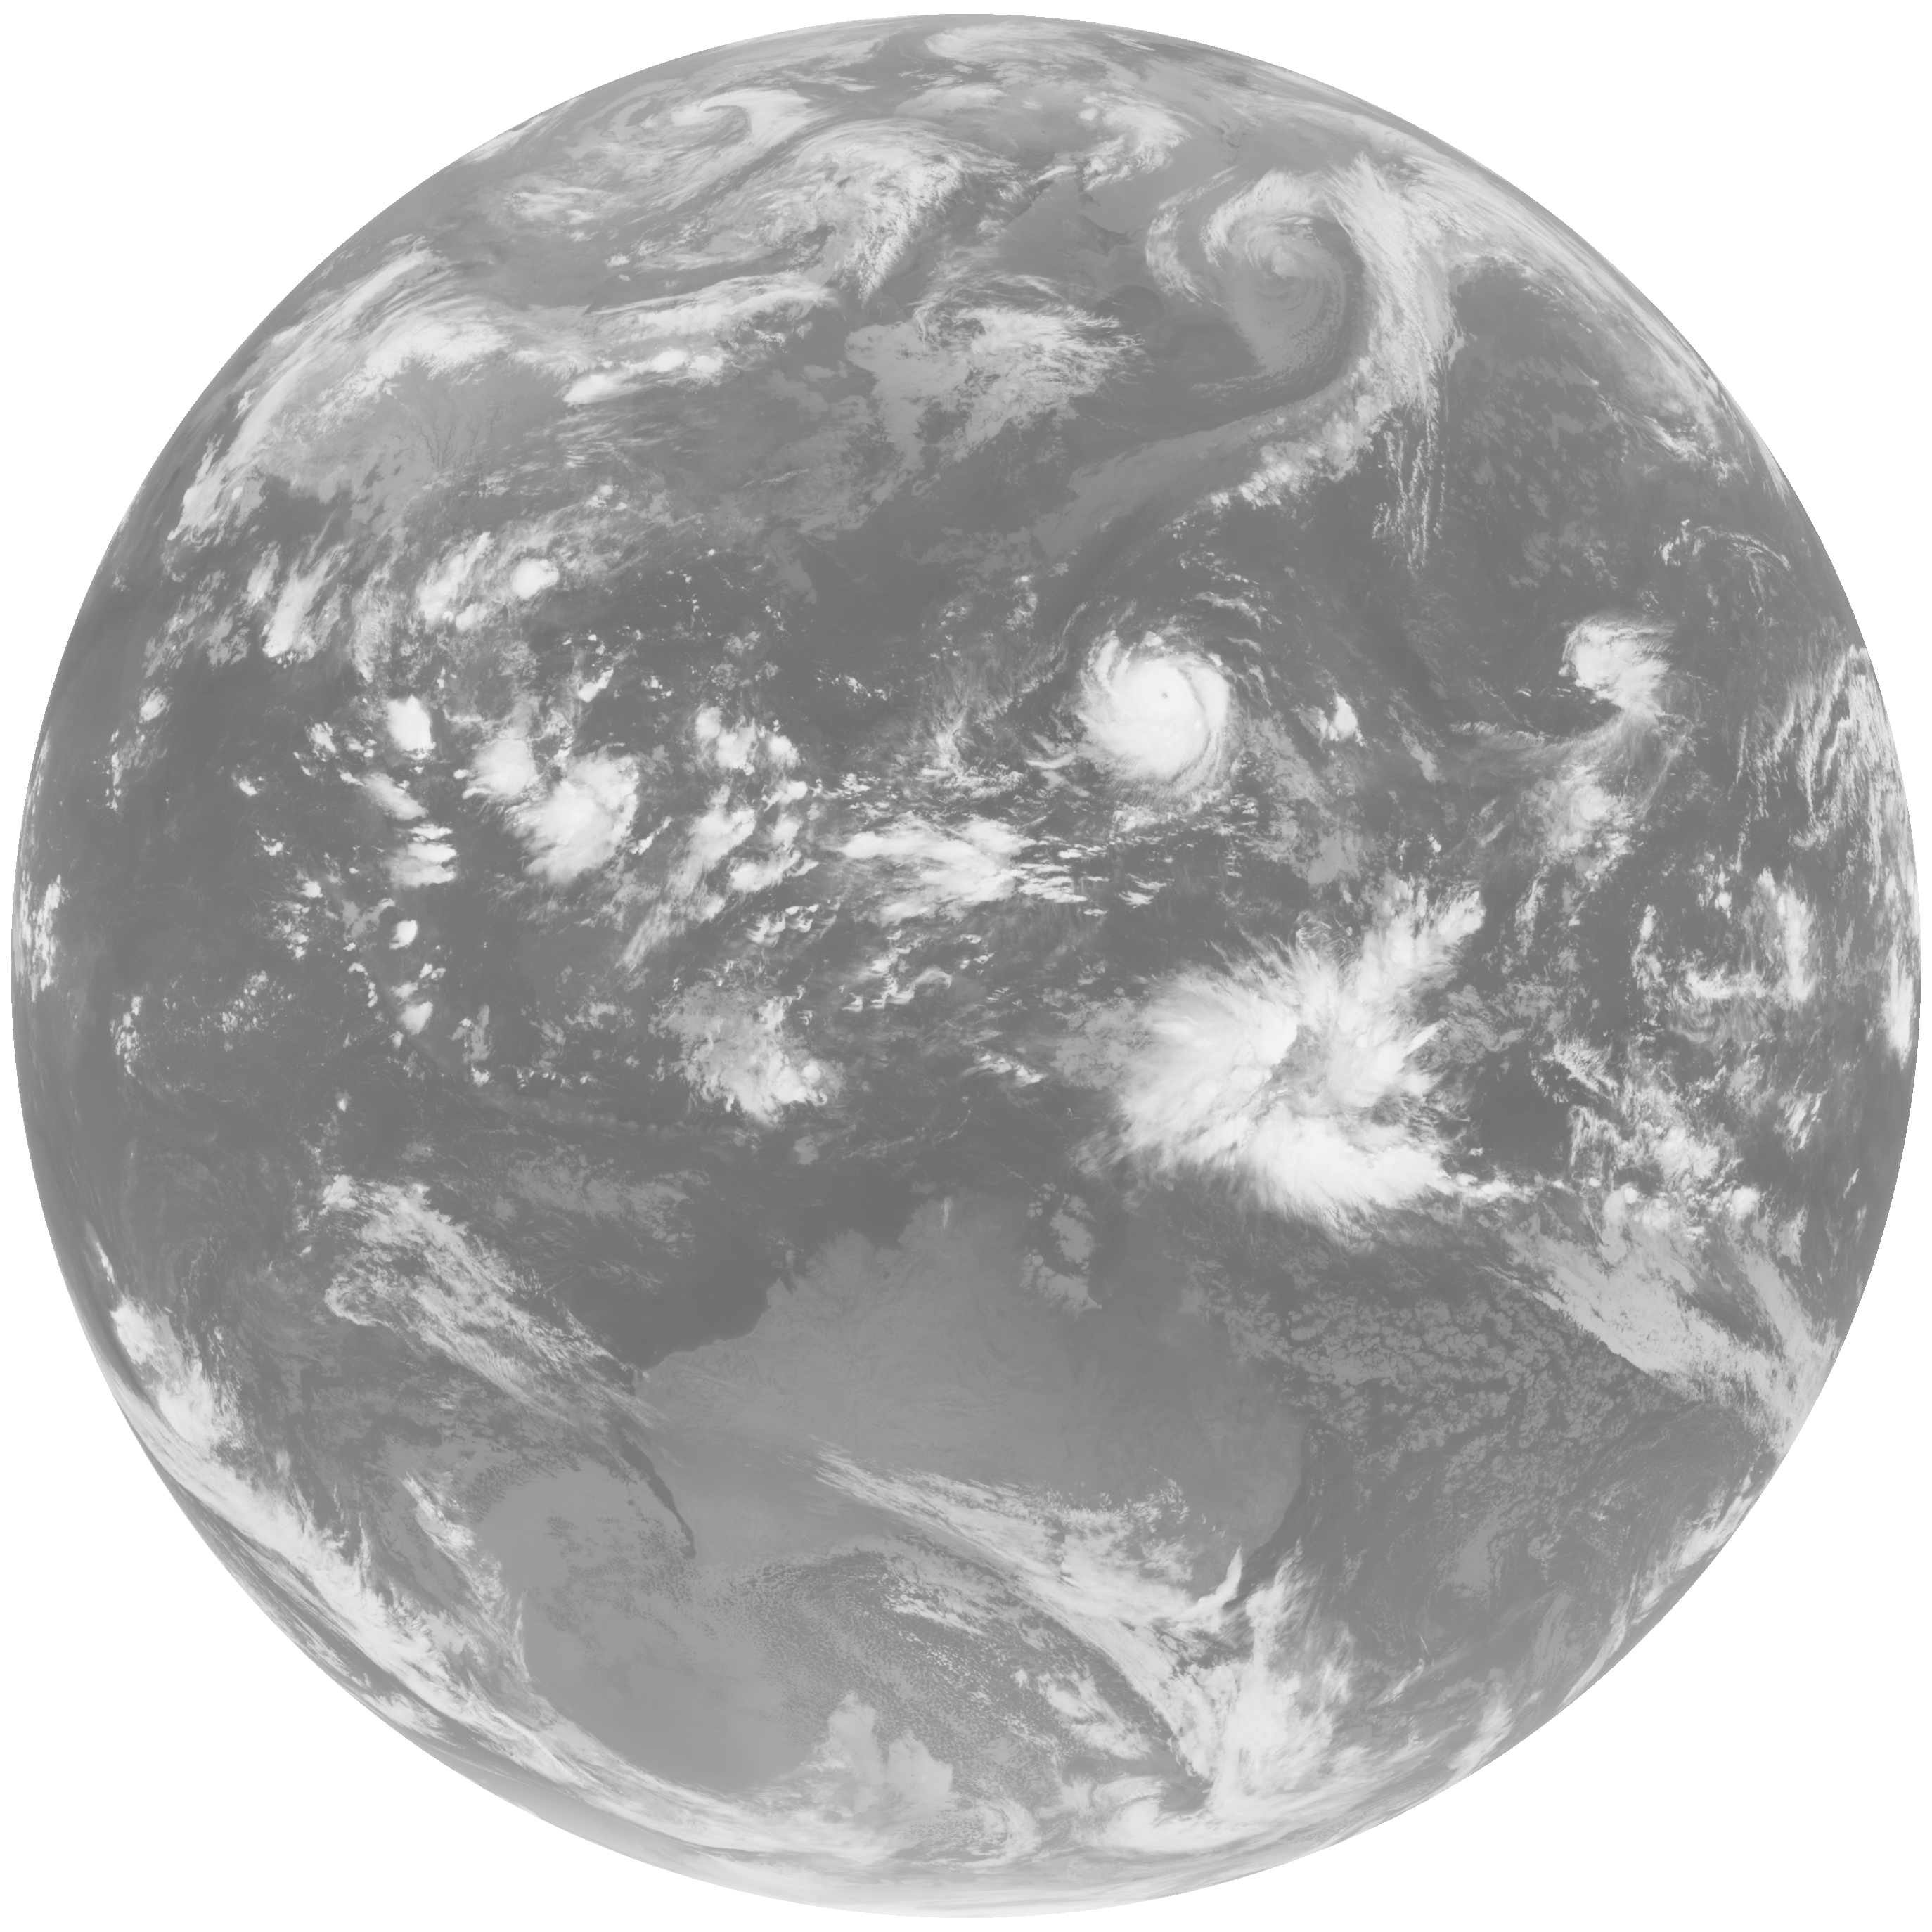typhoon: (893, 561, 1350, 876)
